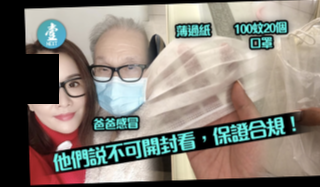with_mask: (89, 50, 147, 116)
without_mask: (30, 72, 86, 134)
